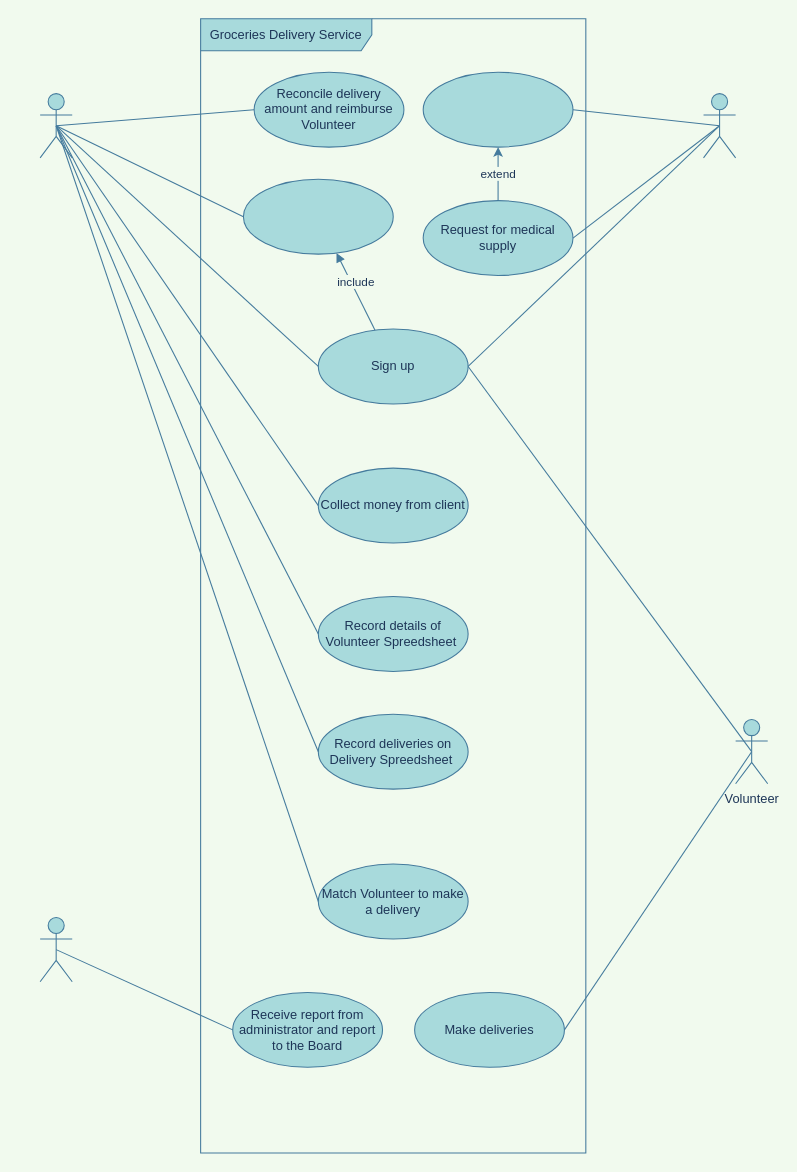
This 797x1172 diagram has some shape labels left out. The shapes that lost their labels are listed below. From the top down, each one's box as (x1, y1, x2, y2) in pixels, then its label:
(39, 93, 72, 158): Adminsitrator
(422, 71, 573, 147): Place order
(702, 93, 736, 158): Client
(242, 178, 393, 254): Record details of clients on Spreadsheet
(39, 916, 72, 982): Manager
